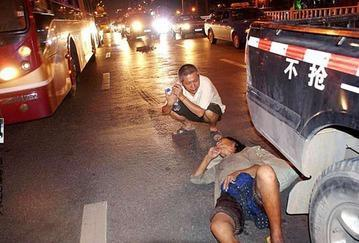Fall-Detected: (184, 129, 291, 239)
